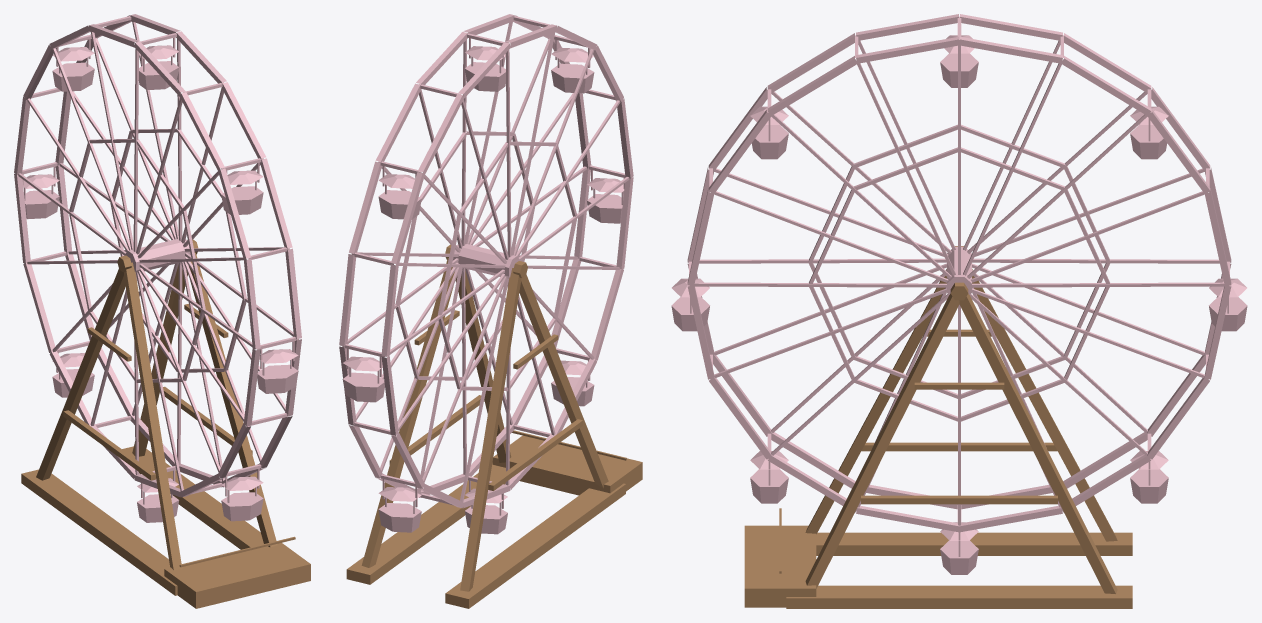
The model's file is ferris_wheel.glb.
The picture shows the model from 3 angles, left to right: view 1: azimuth 30°, elevation 25°; view 2: azimuth 150°, elevation 25°; view 3: azimuth 270°, elevation 25°; orthographic projection. The views are drawn at different scales.
Parts seen in each view (by area): view 1: wheel, ferris_wheel, gondola_6, gondola_5, gondola_2, gondola_4, gondola_1, gondola_3, gondola_7, gondola_8; view 2: wheel, ferris_wheel, gondola_8, gondola_1, gondola_4, gondola_2, gondola_5, gondola_3, gondola_7, gondola_6; view 3: wheel, ferris_wheel, gondola_6, gondola_8, gondola_7, gondola_2, gondola_4, gondola_1, gondola_5, gondola_3.
Part boxes in pixels (box(x1,y1,x2,y2)): wheel: box(14, 14, 301, 497); ferris_wheel: box(21, 239, 310, 608); gondola_6: box(221, 468, 263, 521); gondola_5: box(257, 341, 298, 393); gondola_2: box(52, 39, 94, 91); gondola_4: box(221, 162, 263, 214); gondola_1: box(22, 166, 59, 219); gondola_3: box(138, 37, 179, 90); gondola_7: box(137, 470, 179, 522); gondola_8: box(52, 353, 94, 397); wheel: box(339, 14, 633, 508); ferris_wheel: box(346, 244, 642, 608); gondola_8: box(378, 479, 421, 532); gondola_1: box(342, 348, 384, 402); gondola_4: box(551, 39, 594, 93); gondola_2: box(378, 166, 421, 219); gondola_5: box(587, 170, 624, 223); gondola_3: box(464, 38, 505, 91); gondola_7: box(465, 480, 507, 534); gondola_6: box(551, 360, 594, 406); wheel: box(687, 14, 1231, 532); ferris_wheel: box(744, 246, 1132, 608); gondola_6: box(750, 451, 788, 503); gondola_8: box(1130, 451, 1168, 503); gondola_7: box(940, 522, 978, 574); gondola_2: box(1130, 106, 1168, 159); gondola_4: box(750, 106, 788, 159); gondola_1: box(1209, 278, 1247, 331); gondola_5: box(671, 278, 709, 331); gondola_3: box(940, 35, 978, 87).
Bounding box in the file's own units: 5.2 × 20.31 × 19.3.
